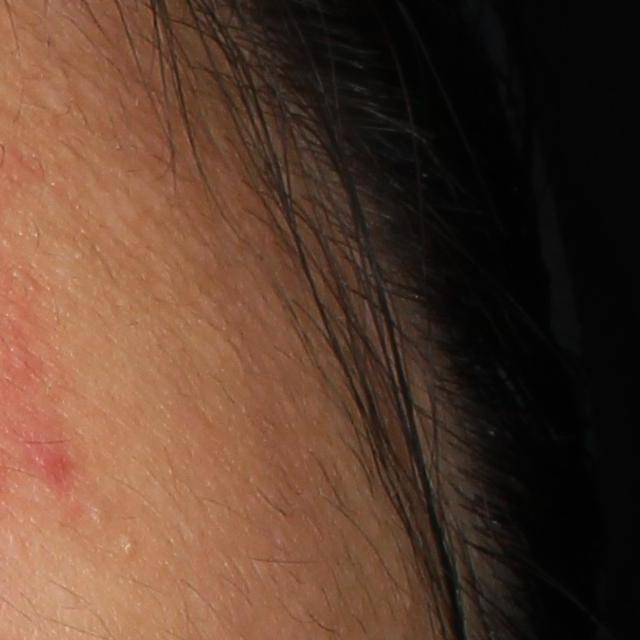comedo: (121, 538, 141, 560)
